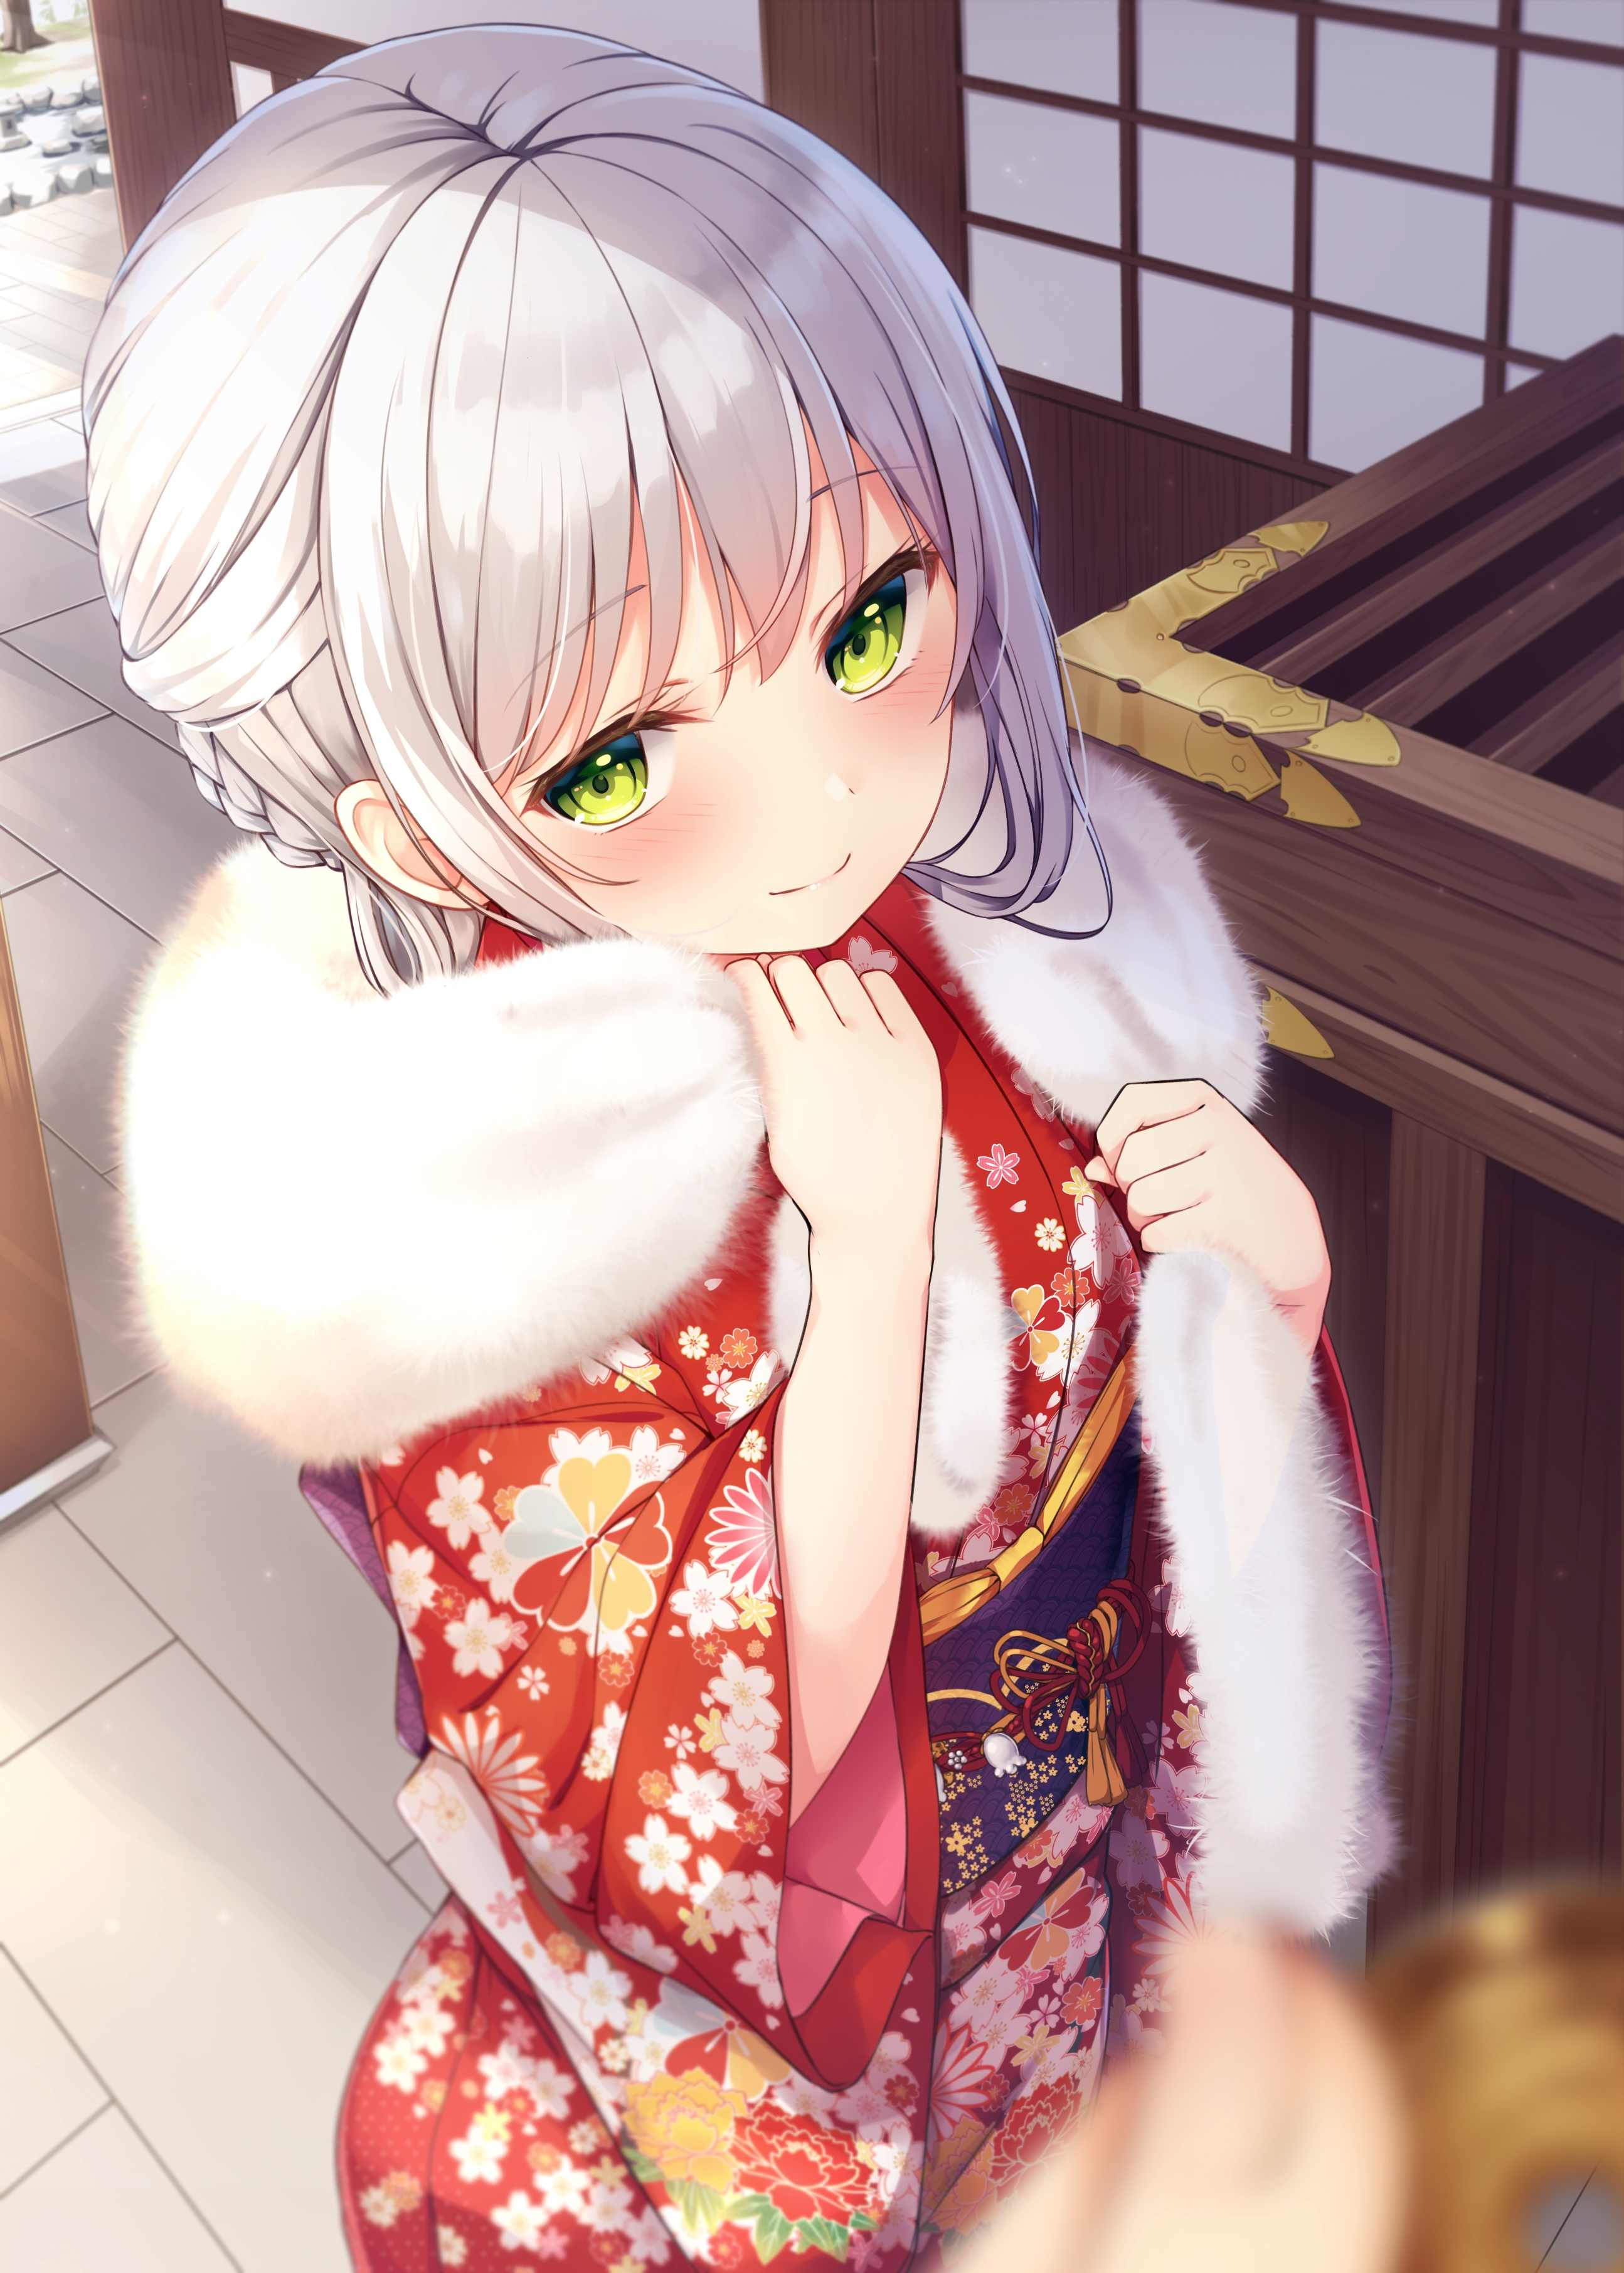纸片人正脸: (115, 43, 1005, 977)
